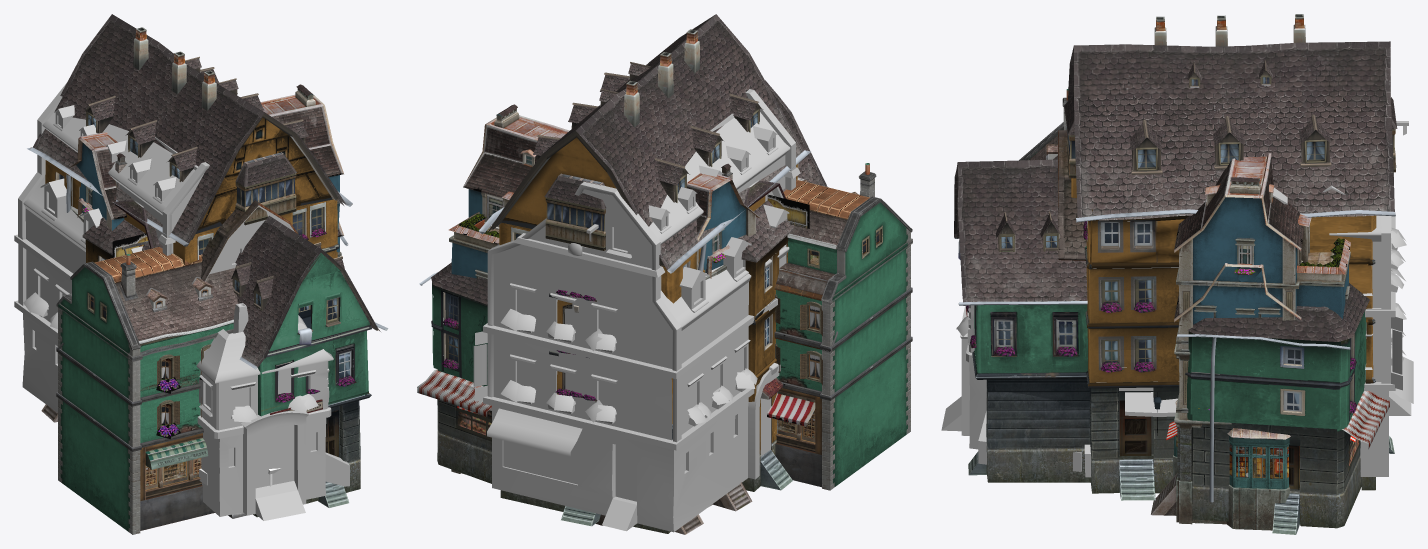
File: artisan.gltf
3 views of the same model, side by side, from view 1: azimuth 30°, elevation 25°; view 2: azimuth 150°, elevation 25°; view 3: azimuth 270°, elevation 25° (orthographic). The views are drawn at different scales.
Parts seen in each view (by area): view 1: _01_lod0, _estate04b_lod0, _03_lod0, _estate04_lod0, _05_lod0, _04_lod0; view 2: _03_lod0, _01_lod0, _estate04b_lod0, _estate04_lod0, _04_lod0; view 3: _01_lod0, _estate04b_lod0, _03_lod0, _estate04_lod0, _05_lod0.
Boxes of the visible parts, x1=… form: _01_lod0: x1=27, y1=14, x2=388, y2=517; _estate04b_lod0: x1=42, y1=84, x2=343, y2=534; _03_lod0: x1=14, y1=83, x2=349, y2=520; _estate04_lod0: x1=41, y1=198, x2=343, y2=533; _05_lod0: x1=201, y1=200, x2=297, y2=281; _04_lod0: x1=114, y1=200, x2=159, y2=248; _03_lod0: x1=473, y1=89, x2=804, y2=532; _01_lod0: x1=417, y1=14, x2=827, y2=533; _estate04b_lod0: x1=449, y1=104, x2=912, y2=534; _estate04_lod0: x1=451, y1=166, x2=912, y2=534; _04_lod0: x1=743, y1=180, x2=785, y2=207; _01_lod0: x1=954, y1=14, x2=1397, y2=534; _estate04b_lod0: x1=1019, y1=89, x2=1355, y2=530; _03_lod0: x1=941, y1=76, x2=1413, y2=476; _estate04_lod0: x1=1026, y1=92, x2=1356, y2=530; _05_lod0: x1=1058, y1=130, x2=1093, y2=477.
Size of what is drawn, in the model's own units: 3.11 by 3.66 by 3.65.
